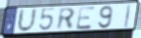5: (38, 7, 57, 33)
9: (97, 5, 114, 30)
E: (75, 6, 97, 31)
I: (124, 4, 132, 29)
R: (55, 8, 76, 32)
U: (16, 7, 39, 34)
